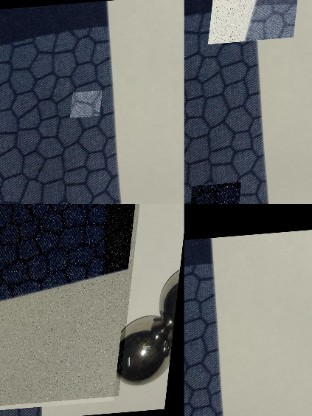ironball: (121, 312, 169, 386), (159, 267, 177, 313)
